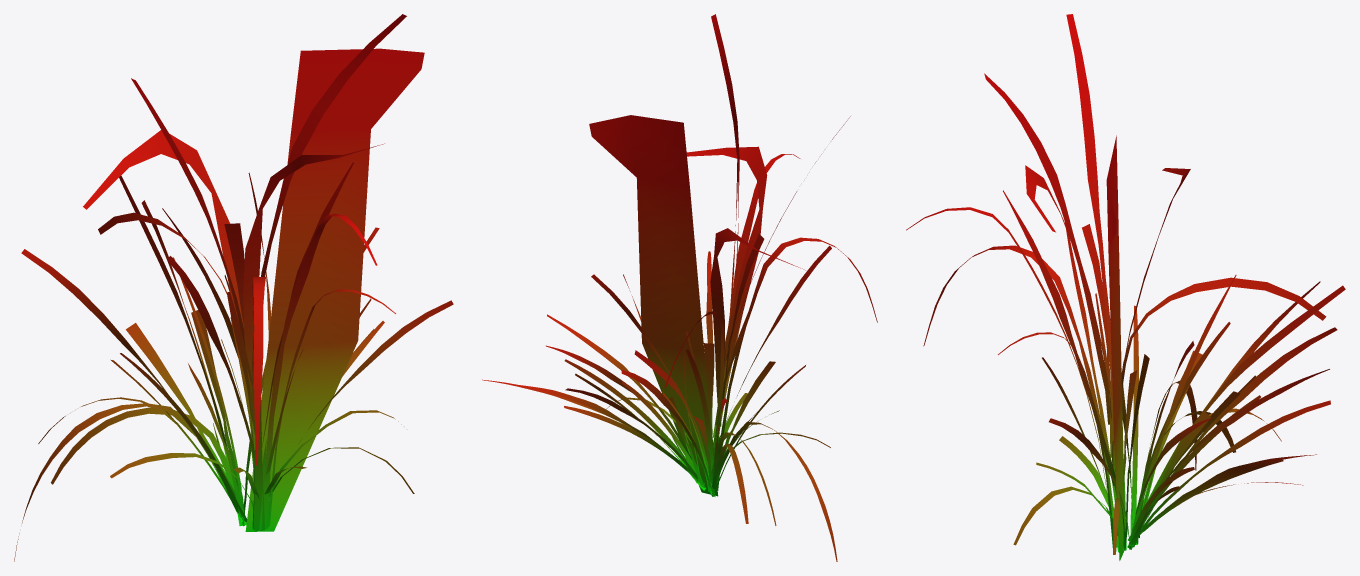
File: Lemongrass_LOD1_Var2_sktne.fbx
The picture shows the model from 3 angles, left to right: view 1: azimuth 30°, elevation 25°; view 2: azimuth 150°, elevation 25°; view 3: azimuth 270°, elevation 25°; orthographic projection. The views are drawn at different scales.
Parts seen in each view (by area): view 1: _f55c_Var2_LOD1; view 2: _f55c_Var2_LOD1; view 3: _f55c_Var2_LOD1.
Boxes of the visible parts, left/top/right/bottom form: _f55c_Var2_LOD1: left=14, top=14, right=453, bottom=561; _f55c_Var2_LOD1: left=482, top=14, right=877, bottom=561; _f55c_Var2_LOD1: left=906, top=14, right=1345, bottom=560.
Bounding box in the file's own units: 35.04 × 46.62 × 35.72.
